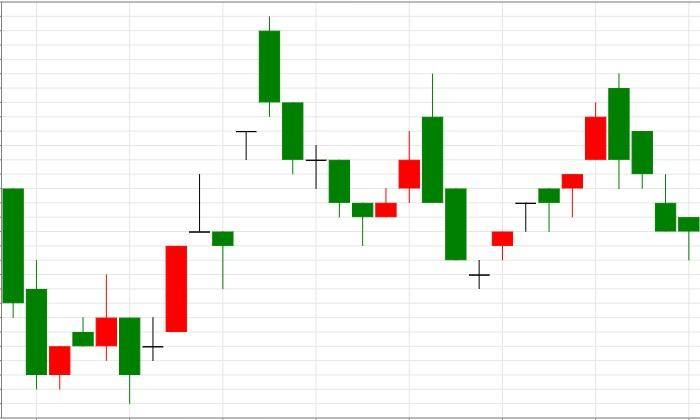bearish_engulfing_fall: (469, 73, 629, 289)
